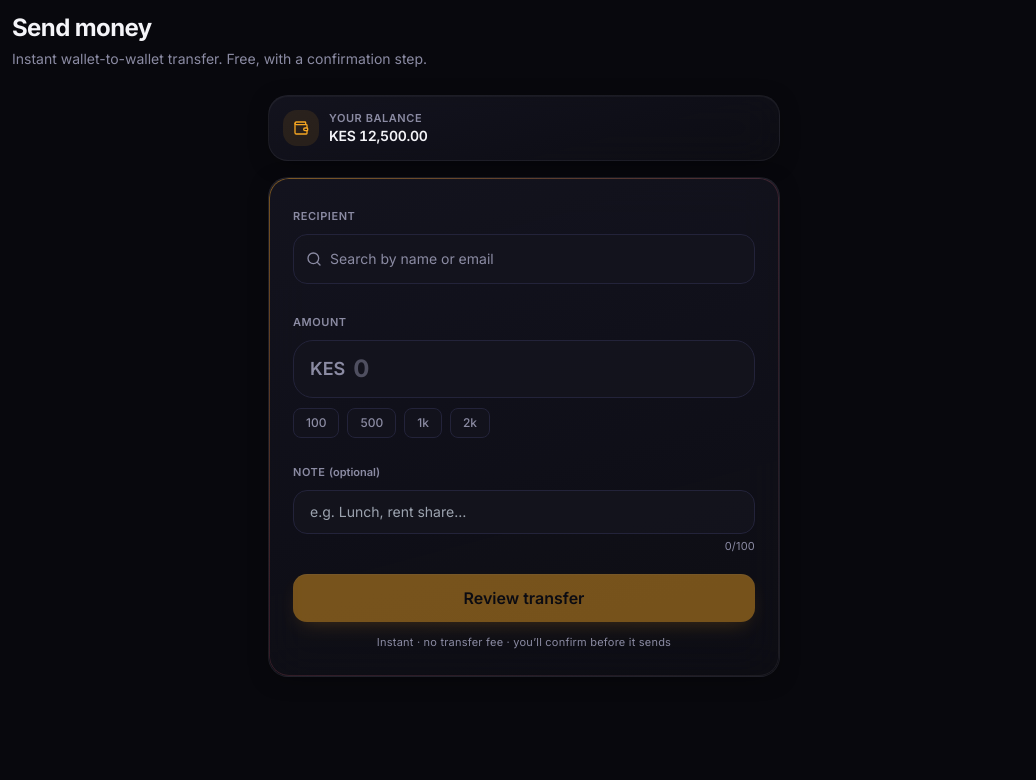
Scenario: Send Money › shows an insufficient-balance error
Type "grace" into the field labelled "Recipient" at (536,259), box [330, 235, 742, 283]
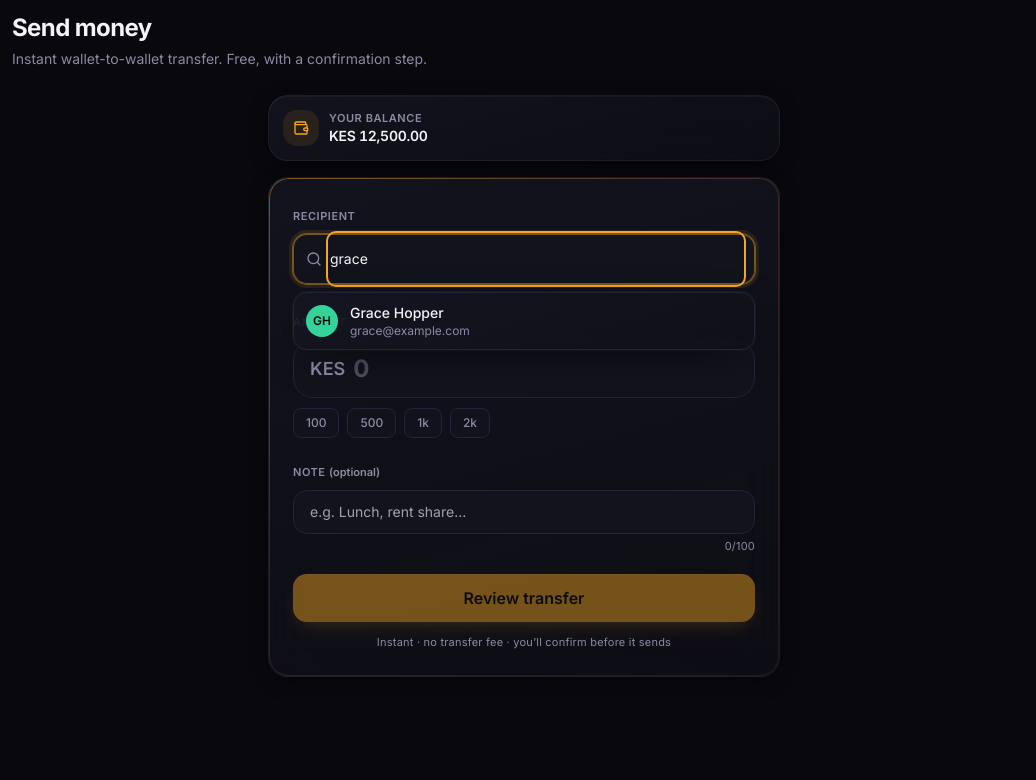
Click the text "Grace Hopper" at (397,312), box [350, 304, 444, 321]
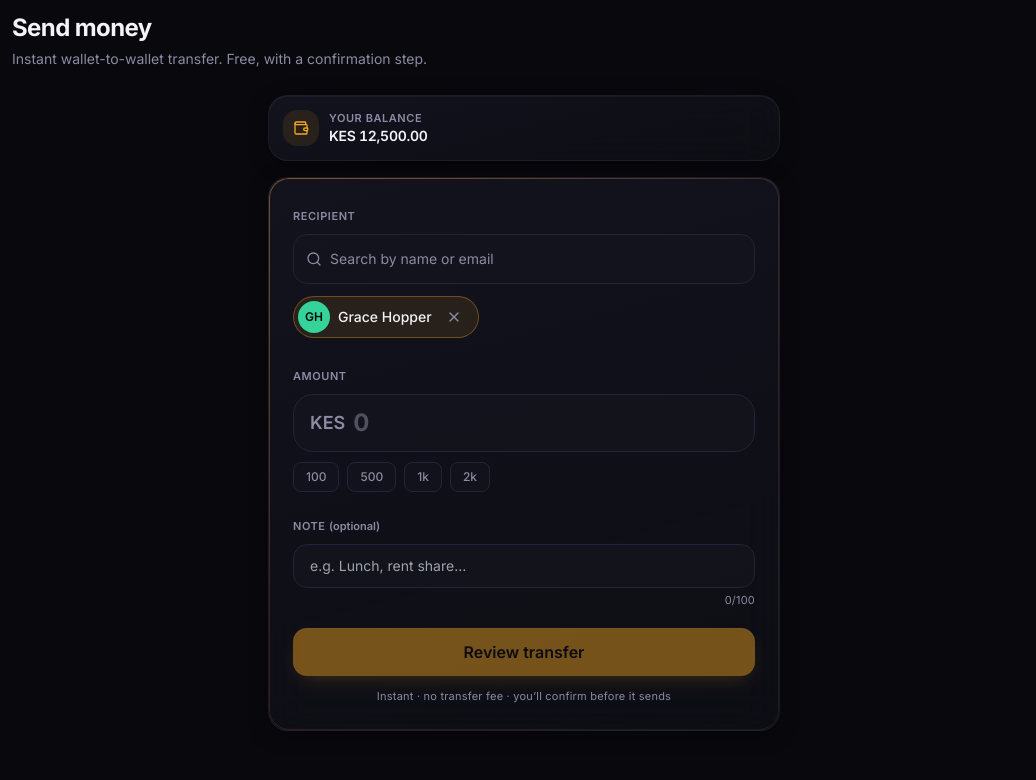
Type "99999" into the field labelled "Amount" at (546,423), box [353, 395, 738, 451]
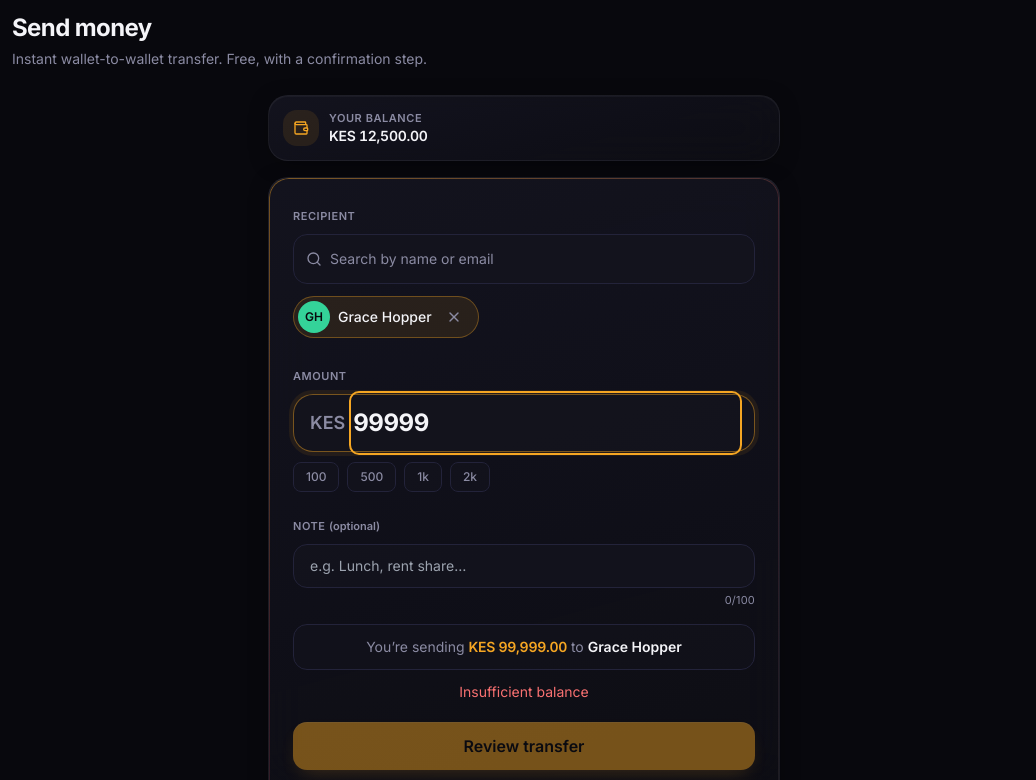
Expected: the text "Insufficient balance" is shown, [459, 683, 589, 700]
